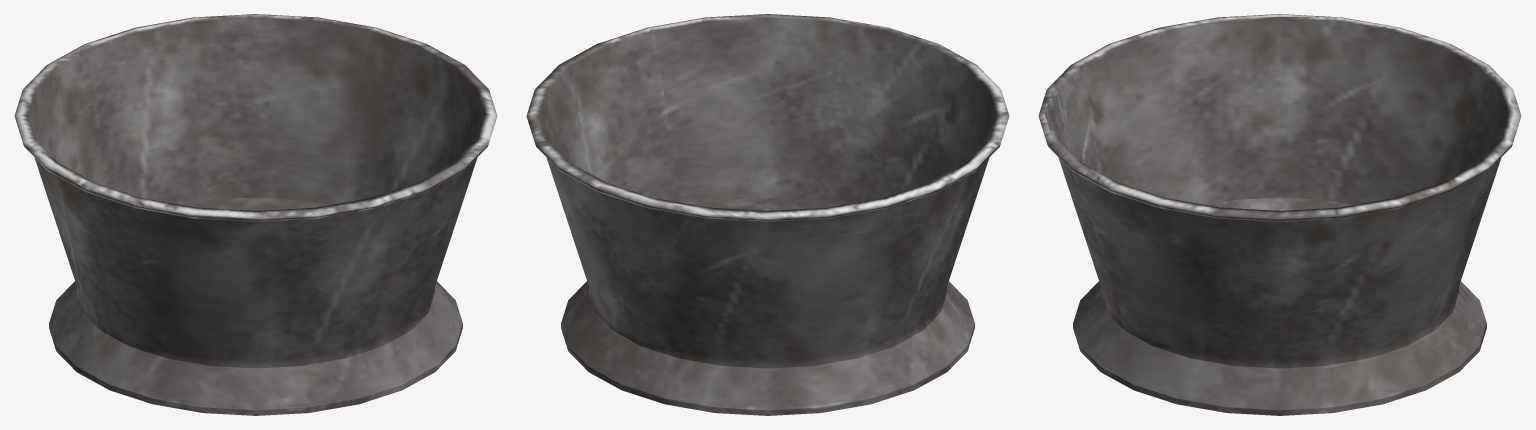
File: SM_OpenPan.fbx
3 views of the same model, side by side, from view 1: azimuth 30°, elevation 25°; view 2: azimuth 150°, elevation 25°; view 3: azimuth 270°, elevation 25° (orthographic).
Visible parts, largest first — view 1: SM_OpenPan_LOD0; view 2: SM_OpenPan_LOD0; view 3: SM_OpenPan_LOD0.
Boxes of the visible parts, box(x1,y1,x2,y2) form: SM_OpenPan_LOD0: box(14, 14, 497, 415); SM_OpenPan_LOD0: box(526, 14, 1009, 415); SM_OpenPan_LOD0: box(1038, 14, 1521, 415).
Size of the model in its own units: 28.41 by 28.41 by 13.9.
Materials: 1 (1 with a texture image).
